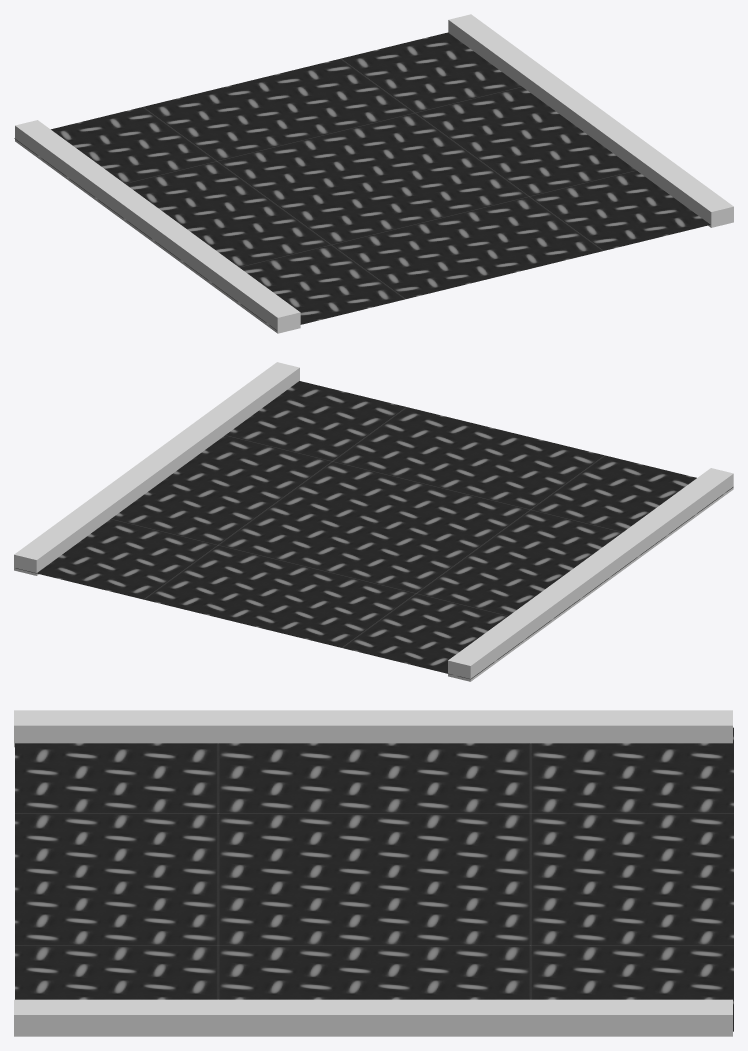
Rendered from GratedFloor1.fbx.
The picture shows the model from 3 angles, top to bottom: view 1: azimuth 30°, elevation 25°; view 2: azimuth 150°, elevation 25°; view 3: azimuth 270°, elevation 25°; orthographic projection. The views are drawn at different scales.
Visible parts, largest first — view 1: wall_big_no_side_full_LOD1.002; view 2: wall_big_no_side_full_LOD1.002; view 3: wall_big_no_side_full_LOD1.002.
Boxes of the visible parts, x1,y1,x2,y2 form: wall_big_no_side_full_LOD1.002: [14, 14, 733, 333]; wall_big_no_side_full_LOD1.002: [14, 362, 733, 681]; wall_big_no_side_full_LOD1.002: [14, 710, 733, 1036].
Size of the model in its own units: 4014 by 133 by 4006.
